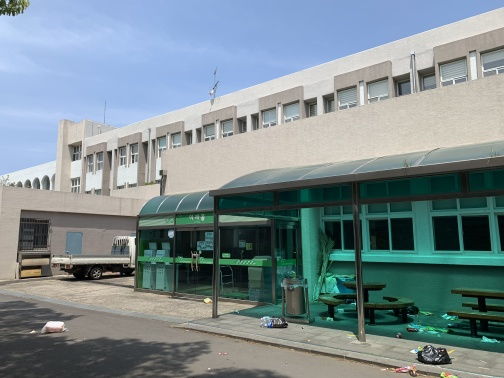Ara Hall: (127, 140, 498, 354)
